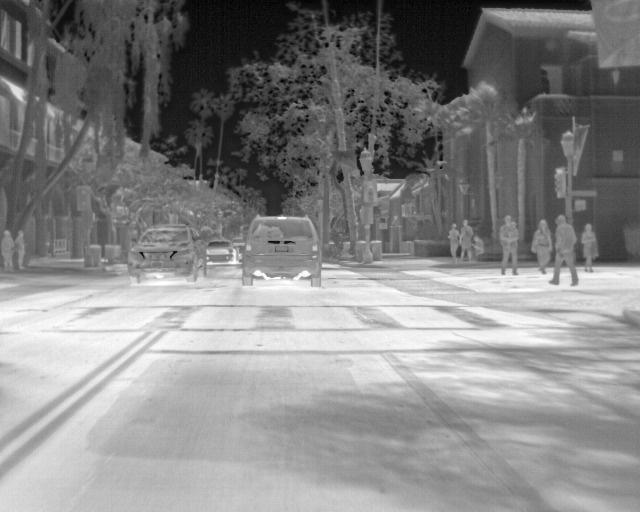bicycle: (238, 211, 322, 289), (127, 224, 208, 285), (203, 239, 235, 265)
empty: (547, 213, 580, 287), (498, 213, 519, 277), (530, 219, 552, 275), (580, 223, 598, 273), (0, 225, 17, 275), (459, 220, 476, 263), (445, 222, 460, 264), (14, 230, 28, 272), (472, 234, 488, 260)
